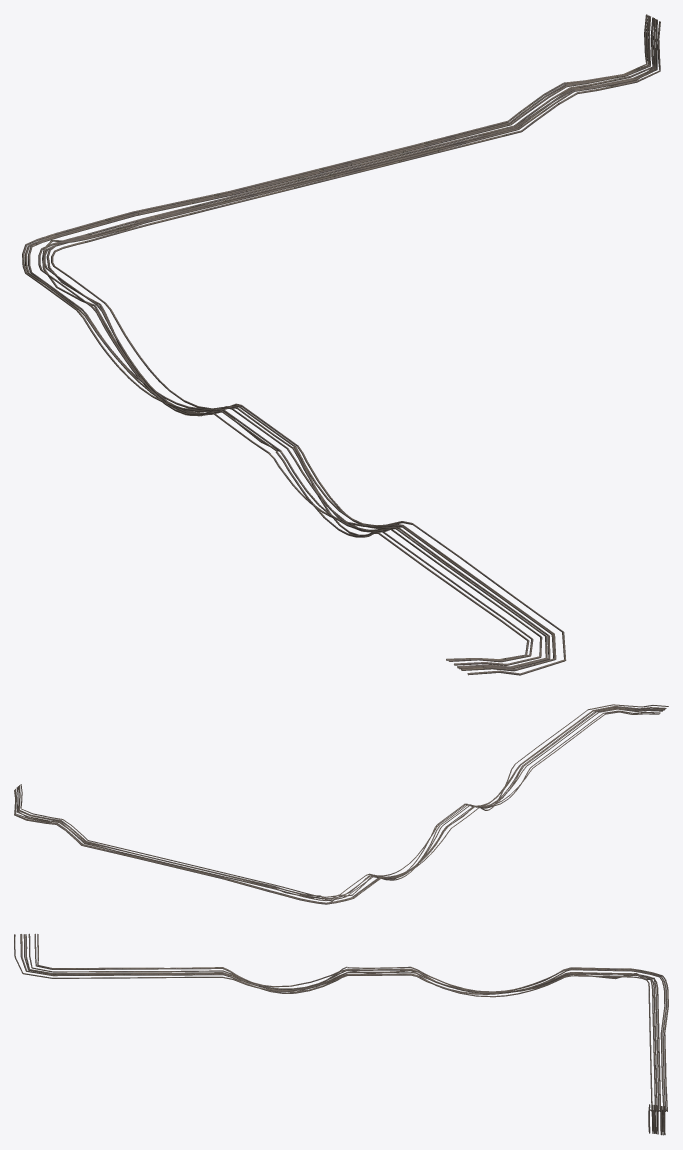
File: Corridor_00_CableMass_00.fbx
3 views of the same model, one above another, from view 1: azimuth 30°, elevation 25°; view 2: azimuth 150°, elevation 25°; view 3: azimuth 270°, elevation 25° (orthographic). The views are drawn at different scales.
Visible parts, largest first — view 1: Corridor_00_CableMass_00; view 2: Corridor_00_CableMass_00; view 3: Corridor_00_CableMass_00.
Boxes of the visible parts, x1,y1,x2,y2 form: Corridor_00_CableMass_00: (22,14,660,675); Corridor_00_CableMass_00: (14,704,668,904); Corridor_00_CableMass_00: (14,933,668,1135).
Size of the model in its own units: 2101 by 324 by 2774.
